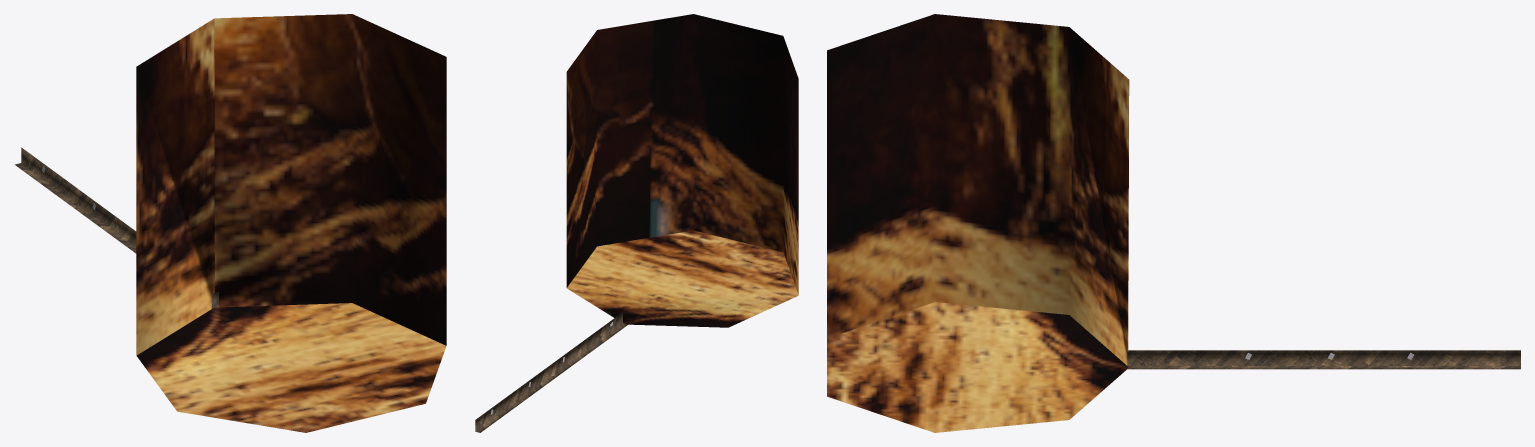
Rendered from holdnik.glb.
3 views of the same model, side by side, from view 1: azimuth 30°, elevation 25°; view 2: azimuth 150°, elevation 25°; view 3: azimuth 270°, elevation 25° (orthographic). The views are drawn at different scales.
Parts seen in each view (by area): view 1: Cube.002; view 2: Cube.002; view 3: Cube.002.
Boxes of the visible parts, box(x1,y1,x2,y2) form: Cube.002: box(15, 14, 446, 432); Cube.002: box(475, 14, 798, 432); Cube.002: box(827, 14, 1520, 432).
Bounding box in the file's own units: 18.3 × 18.78 × 40.96.
Materials: 3 (3 with a texture image).
